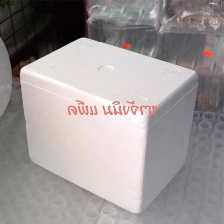foam_box: (16, 33, 204, 217)
